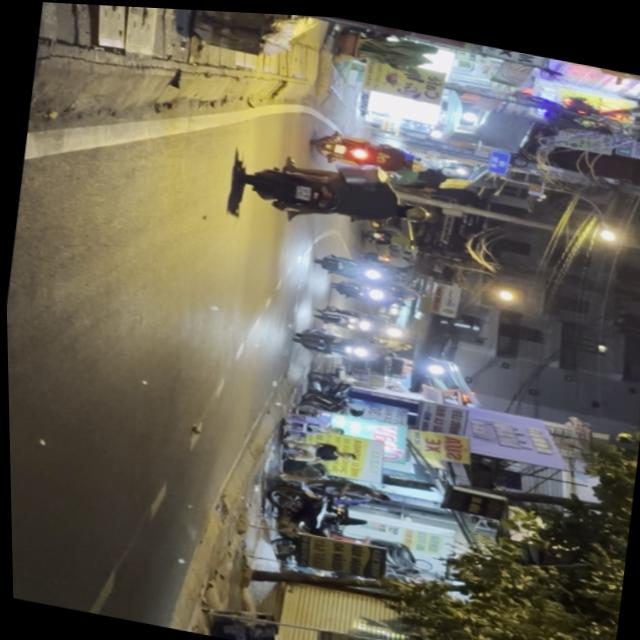helmet: (400, 198, 433, 221)
licenseplate: (233, 148, 437, 240)
nohelmet: (295, 182, 314, 198)
